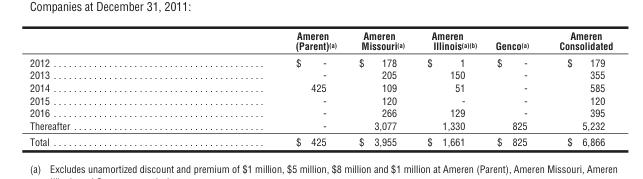table: (28, 29, 612, 147)
table column: (182, 29, 347, 147), (28, 29, 182, 147), (415, 29, 485, 147), (543, 29, 612, 147), (347, 29, 415, 147), (485, 29, 543, 147)
table column header: (28, 29, 612, 53)
table row: (28, 29, 612, 53), (28, 53, 612, 68), (28, 118, 612, 133), (28, 133, 612, 147), (28, 68, 612, 81), (28, 93, 612, 106), (28, 81, 612, 93), (28, 106, 612, 118)
